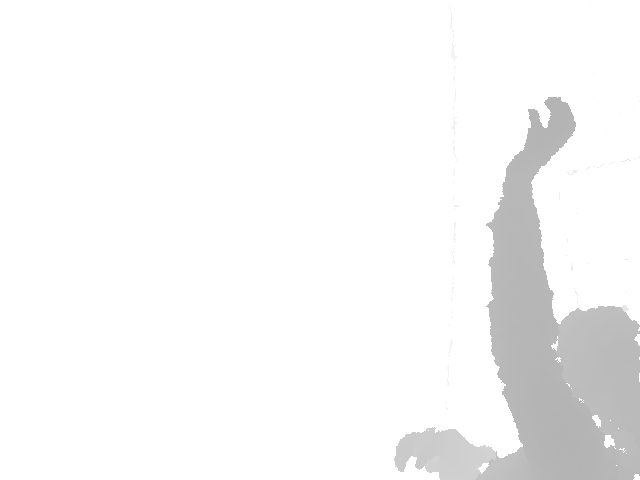hand: (503, 96, 577, 184)
head: (555, 304, 640, 435)
person: (393, 96, 639, 480)
